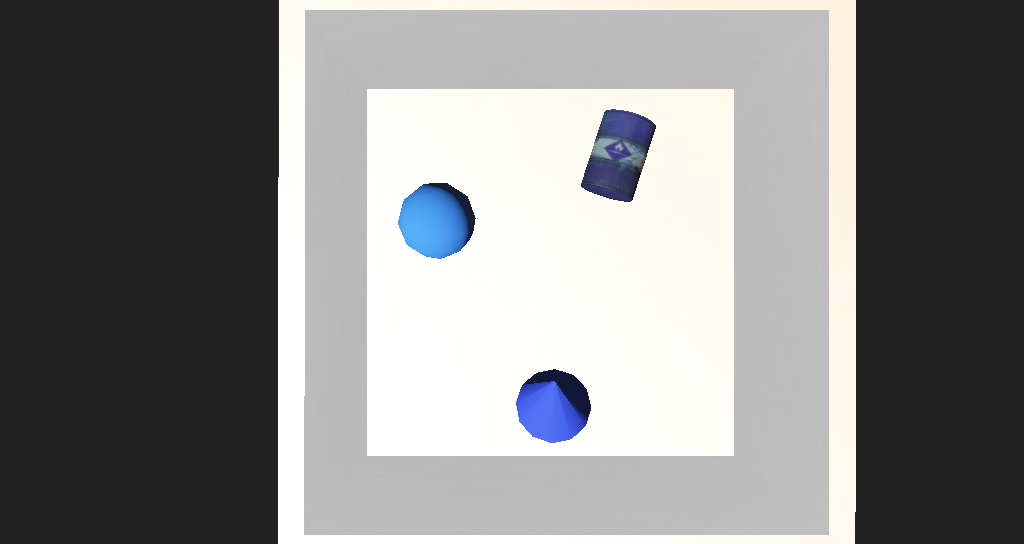cone: (525, 172, 593, 229)
cylinder: (472, 308, 539, 379)
sphere: (377, 215, 445, 262)
